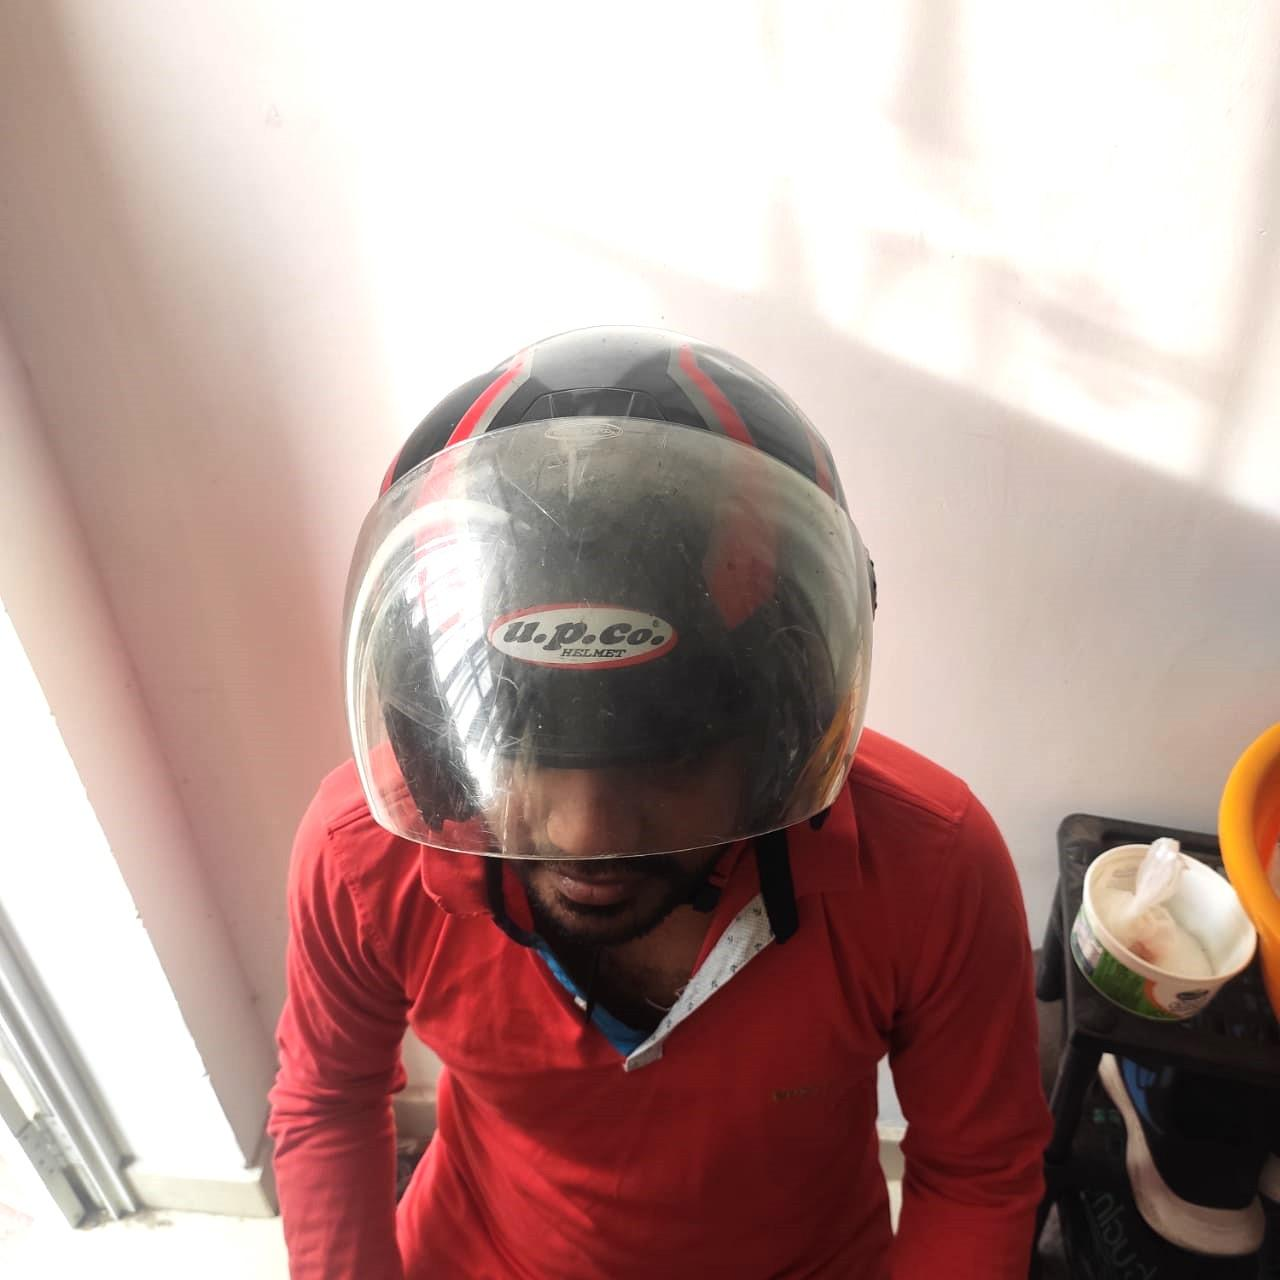helmet: (338, 320, 880, 866)
